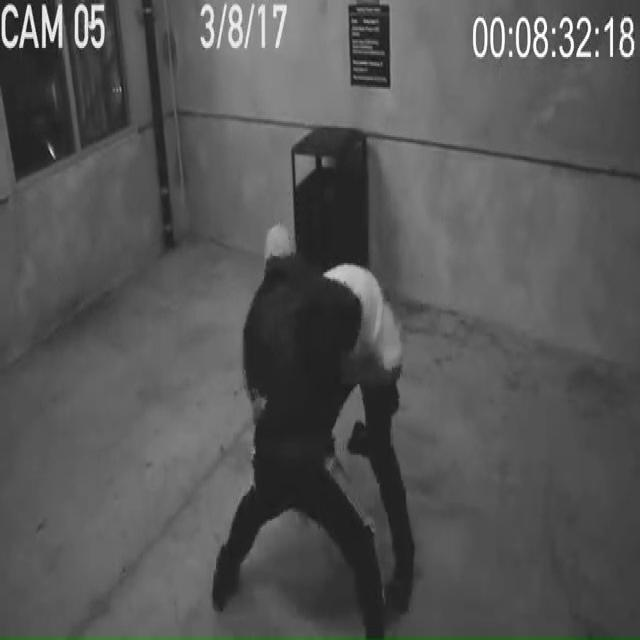fight: (239, 215, 420, 640)
